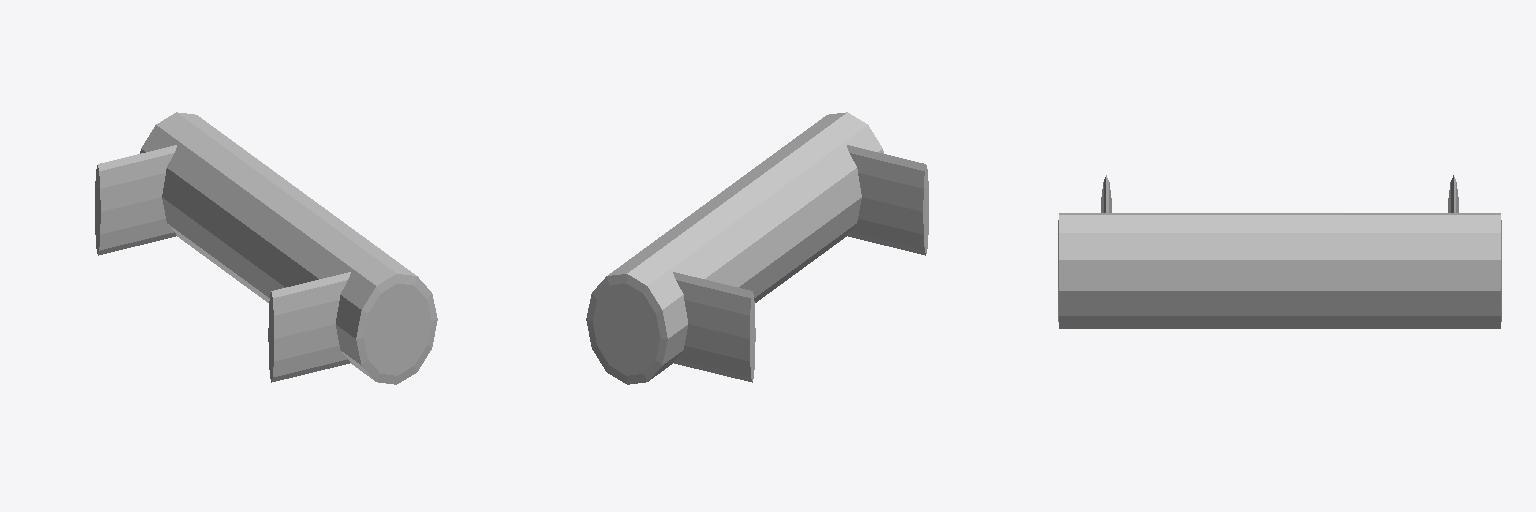
Rendered from handle.obj.
3 views of the same model, side by side, from view 1: azimuth 30°, elevation 25°; view 2: azimuth 150°, elevation 25°; view 3: azimuth 270°, elevation 25° (orthographic).
Bounding box in the file's own units: 0.0465 × 0.0346 × 0.1251.